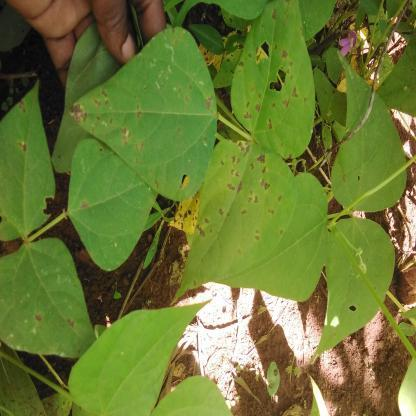Beans_Angular_LeafSpot: (68, 24, 218, 204), (171, 140, 300, 306), (0, 232, 96, 374), (232, 7, 316, 144), (0, 69, 62, 246), (74, 142, 164, 257)
